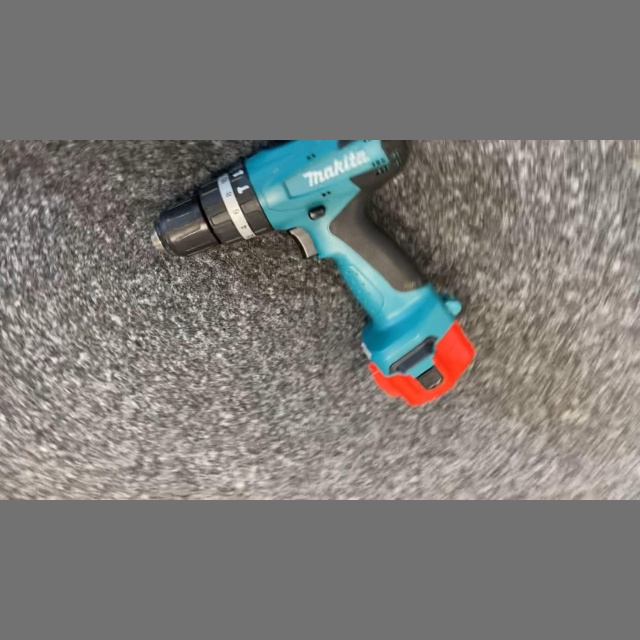drill: (136, 140, 486, 414)
